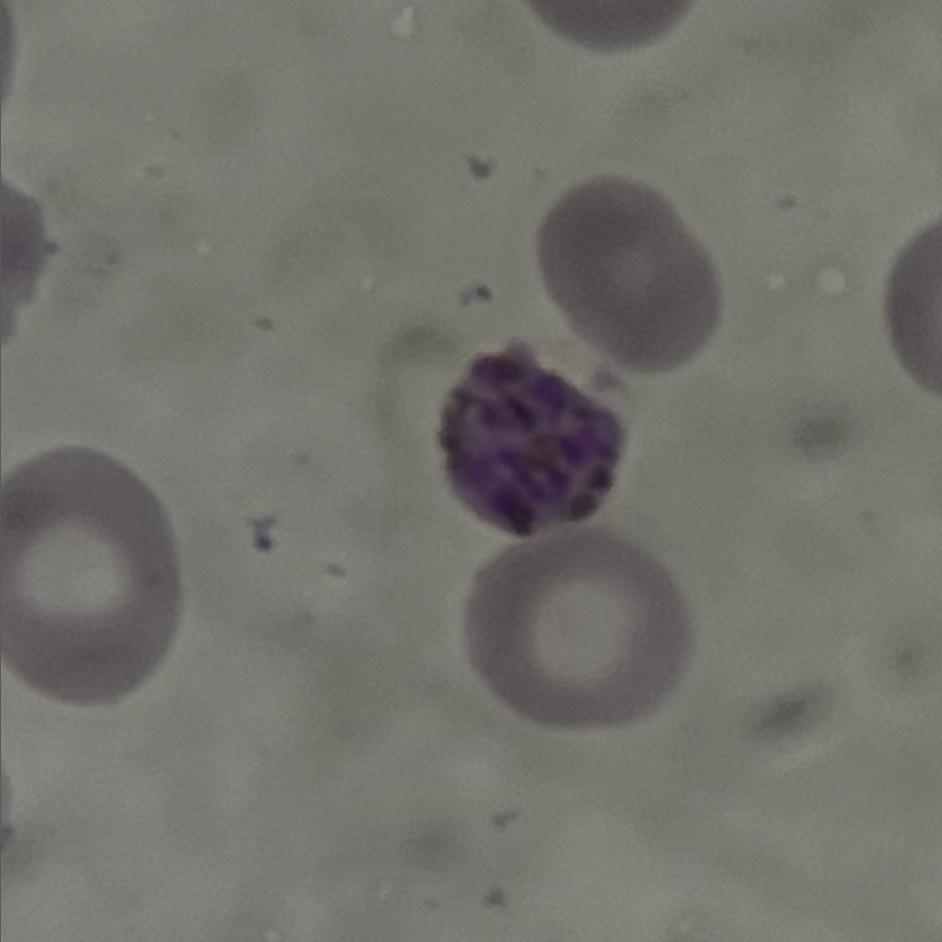Infected: (433, 338, 623, 544)
Uninfected: (2, 448, 187, 716), (470, 538, 693, 731), (537, 170, 732, 372)
